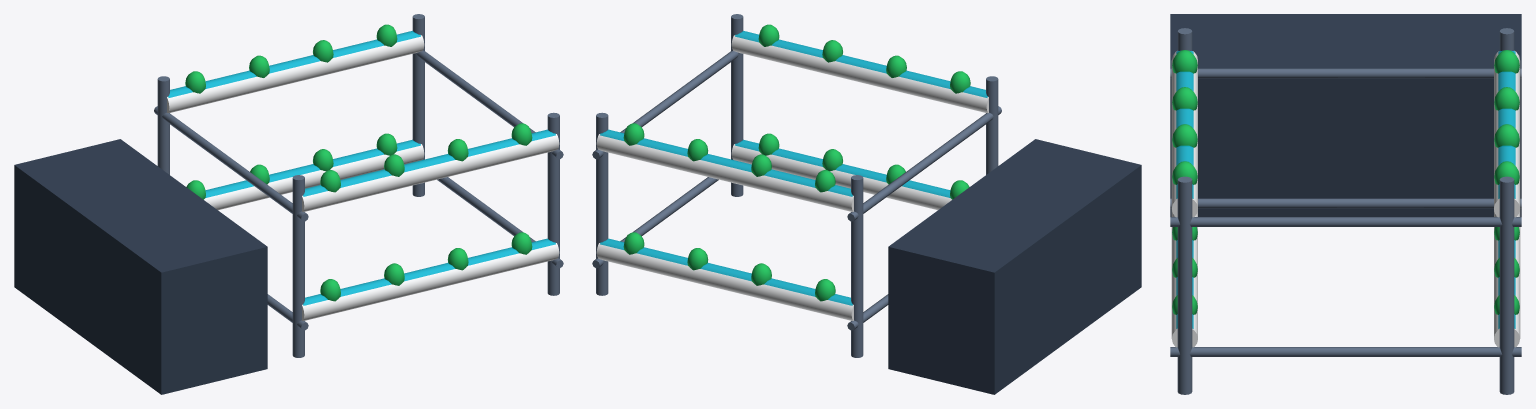
File: hidroponia-compact.glb
3 renders of one model, left to right at view 1: azimuth 30°, elevation 25°; view 2: azimuth 150°, elevation 25°; view 3: azimuth 270°, elevation 25°, orthographic. The views are drawn at different scales.
Bounding box in the file's own units: 1.9 × 0.8 × 1.2.
